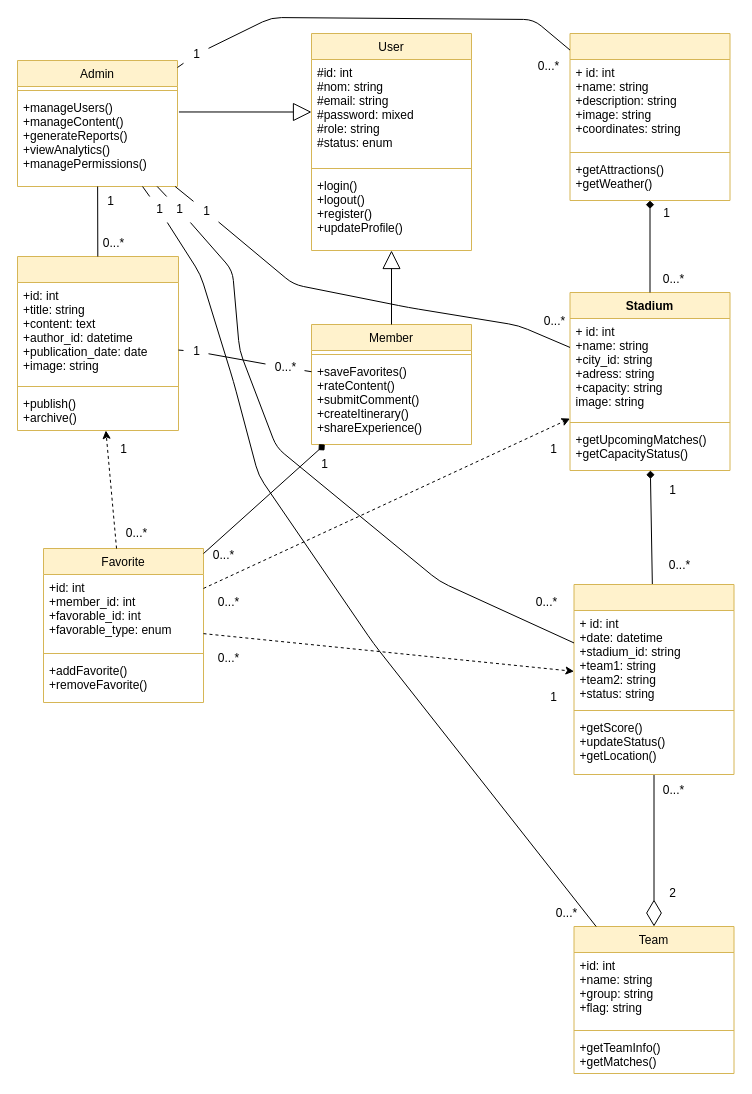
Some shapes in this 752 by 1094 pixel diagram are drawn without their labels. The shapes that lost their labels are listed below. From the top down, each one's box as (x1, y1, x2, y2) in pixels, then its label:
(569, 32, 730, 200): City
(16, 256, 178, 430): Article
(573, 584, 734, 774): Match
